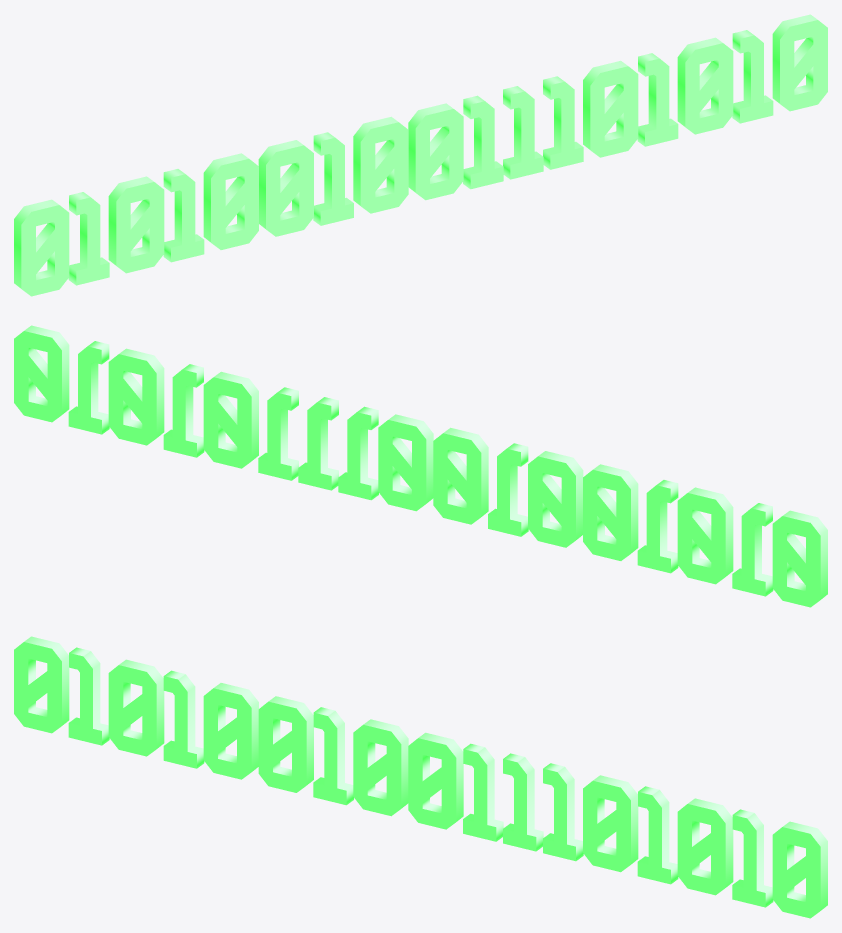
Rendered from boundary_Green.fbx.
The picture shows the model from 3 angles, top to bottom: view 1: azimuth 30°, elevation 25°; view 2: azimuth 150°, elevation 25°; view 3: azimuth 330°, elevation 25°; orthographic projection.
Parts seen in each view (by area): view 1: Text_Green; view 2: Text_Green; view 3: Text_Green.
Boxes of the visible parts, box(x1,y1,x2,y2) form: Text_Green: box(14, 14, 827, 296); Text_Green: box(14, 325, 827, 607); Text_Green: box(14, 636, 827, 918).
Bounding box in the file's own units: 746 × 74.9 × 12.
